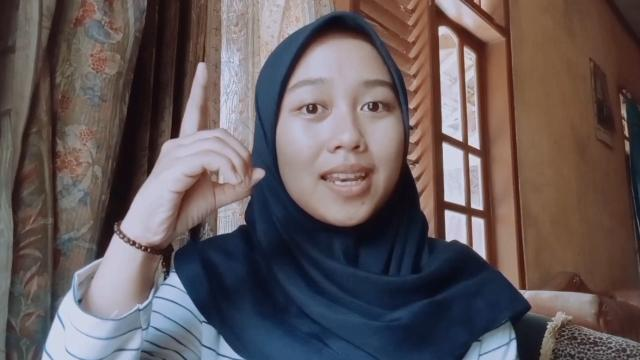D: (137, 61, 265, 229)
